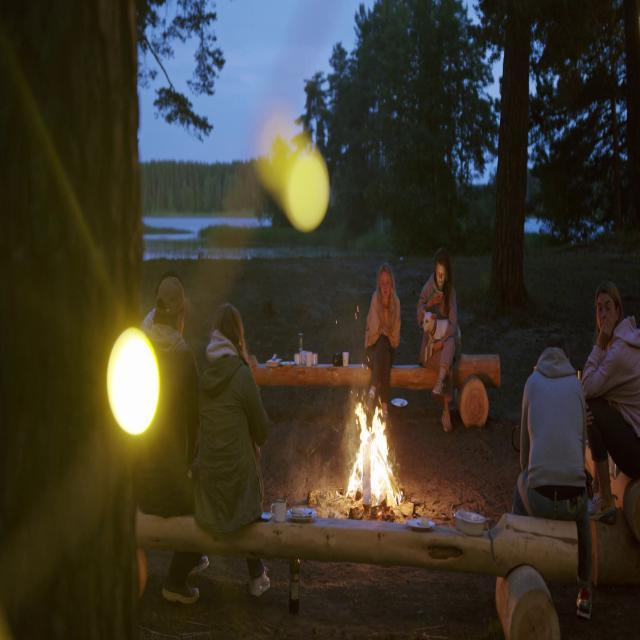Fire: (342, 392, 405, 527)
